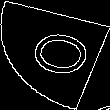O_E: (15, 27, 95, 83)
